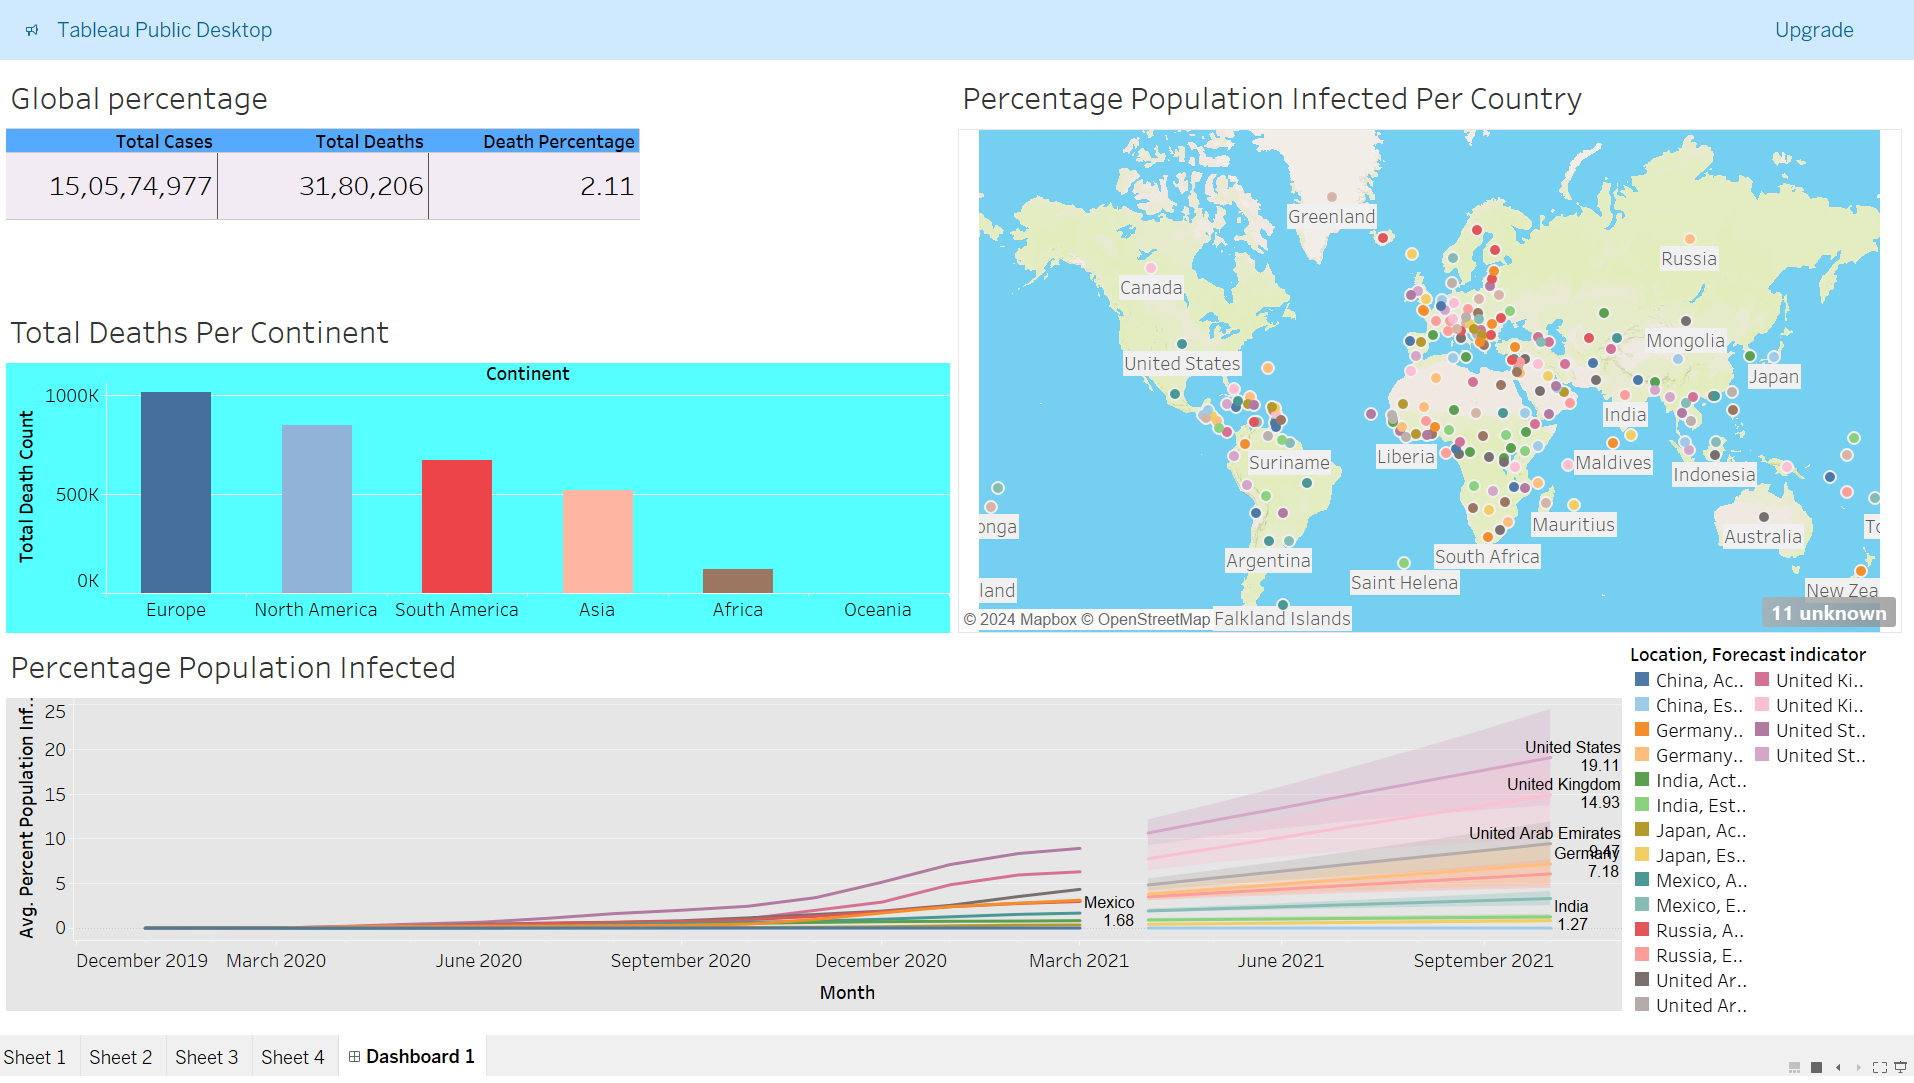

What the dashboard file says about the page in this screenshot:
{"tool":"tableau","page":{"name":"Dashboard 1","canvas":[1000,1000],"units":"permille","ordinal":0},"visuals":[{"type":"worksheet","title":"Sheet 1","mark":"Automatic","box":[5,10.1,495,239]},{"type":"worksheet","title":"Sheet 3","mark":"Automatic","box":[500,10.1,495,581.1]},{"type":"worksheet","title":"Sheet 2","mark":"Automatic","rows":["TotalDeathCount"],"cols":["location"],"box":[5,249.1,495,342.1]},{"type":"worksheet","title":"Sheet 4","mark":"Automatic","rows":["PercentPopulationInfected"],"cols":["date"],"box":[5,591.2,844.5,398.8]},{"type":"legend","title":"Sheet 4","param":"[federated.0apvzt31unltg918vt80404s15wu].[none:Location:nk]\n[federated.0apvzt31u","box":[849.4,591.2,145.6,398.8]}]}

Visuals, with their boxes on the dashboard's canvas, which has no fixed pixel size, in thousandths of its width and height (x1, y1, x2, y2). These are canvas units, not pixel positions in the 1914x1083 screenshot, which may show the page scaled, cropped or inside an application window:
"Sheet 1" worksheet: [left=5, top=10, right=500, bottom=249]
"Sheet 3" worksheet: [left=500, top=10, right=995, bottom=591]
"Sheet 2" worksheet: [left=5, top=249, right=500, bottom=591]
"Sheet 4" worksheet: [left=5, top=591, right=850, bottom=990]
"Sheet 4" legend: [left=849, top=591, right=995, bottom=990]
